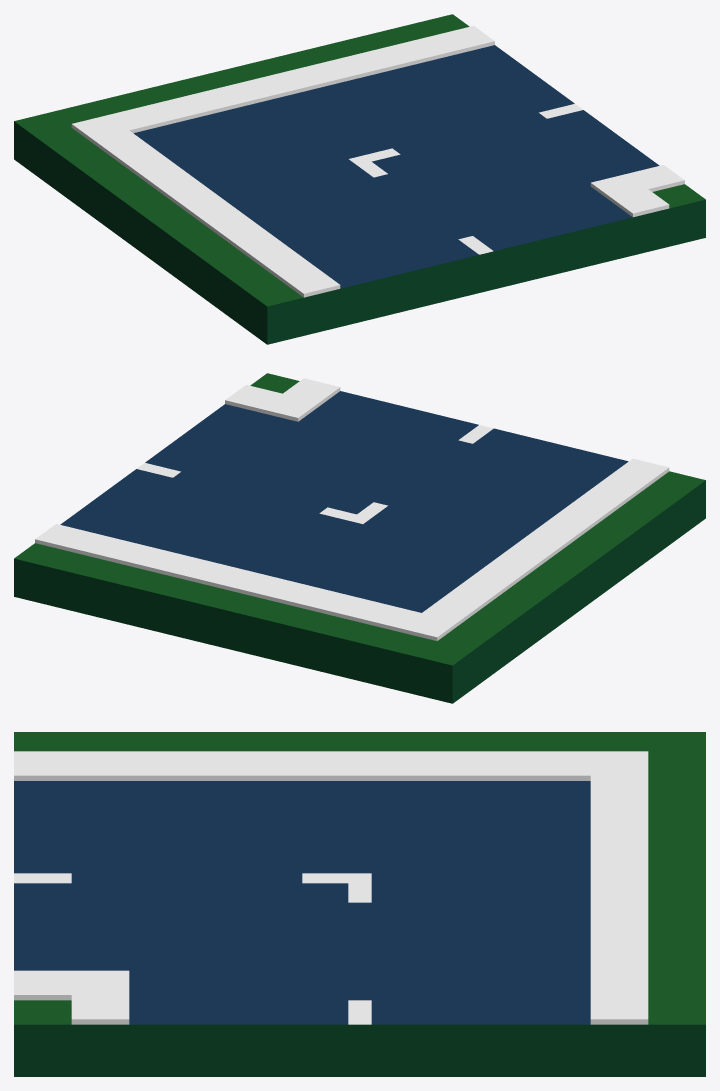
The model's file is road - L.glb.
3 views of the same model, one above another, from view 1: azimuth 30°, elevation 25°; view 2: azimuth 150°, elevation 25°; view 3: azimuth 270°, elevation 25° (orthographic). The views are drawn at different scales.
Parts seen in each view (by area): view 1: l-intersection; view 2: l-intersection; view 3: l-intersection.
Part boxes in pixels (bbox=[...]): l-intersection: bbox=[14, 14, 705, 344]; l-intersection: bbox=[14, 373, 705, 703]; l-intersection: bbox=[14, 732, 705, 1076].
Size of the model in its own units: 12 by 1.1 by 12.
Materials: 1 (1 with a texture image).
